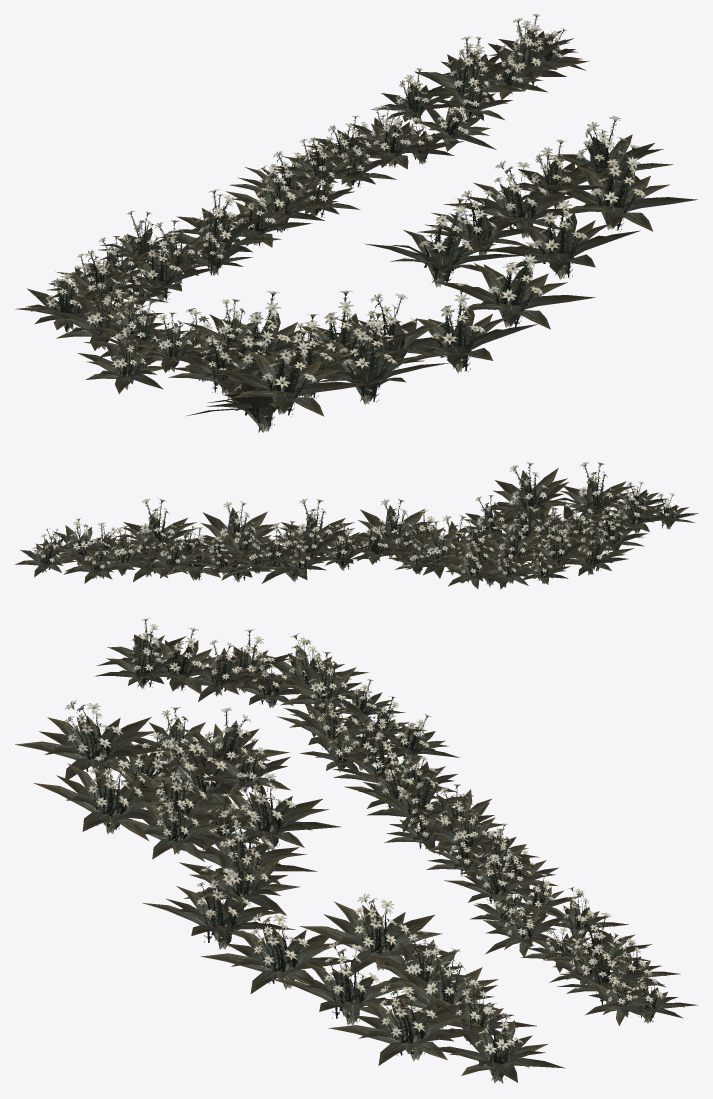
File: grass05.fbx
3 renders of one model, top to bottom at view 1: azimuth 30°, elevation 25°; view 2: azimuth 150°, elevation 25°; view 3: azimuth 270°, elevation 25°, orthographic. The views are drawn at different scales.
Parts seen in each view (by area): view 1: m001211_0:2, m001211_0:1; view 2: m001211_0:2, m001211_0:1; view 3: m001211_0:2, m001211_0:1.
Boxes of the visible parts, box(x1,y1,x2,y2) form: m001211_0:2: box(15, 124, 538, 433); m001211_0:1: box(312, 14, 697, 329); m001211_0:2: box(260, 462, 698, 589); m001211_0:1: box(15, 498, 354, 583); m001211_0:2: box(15, 618, 539, 951); m001211_0:1: box(200, 830, 698, 1083).
Size of the model in its own units: 61773 by 12924 by 49909.
2 materials, 2 textured.
